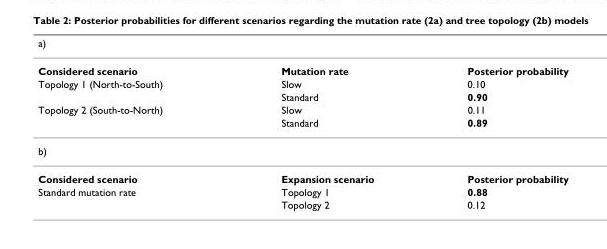table: (37, 36, 567, 210)
table column: (221, 36, 419, 210), (37, 36, 221, 210), (419, 36, 567, 210)
table column header: (37, 36, 567, 56)
table projected row header: (37, 136, 567, 164)
table row: (37, 136, 567, 164), (37, 115, 567, 136), (37, 36, 567, 56), (37, 56, 567, 76), (37, 164, 567, 184), (37, 76, 567, 89), (37, 89, 567, 102), (37, 102, 567, 115), (37, 184, 567, 197), (37, 197, 567, 210)
table spanning cell: (37, 102, 221, 136), (37, 76, 221, 102), (37, 184, 221, 210)
